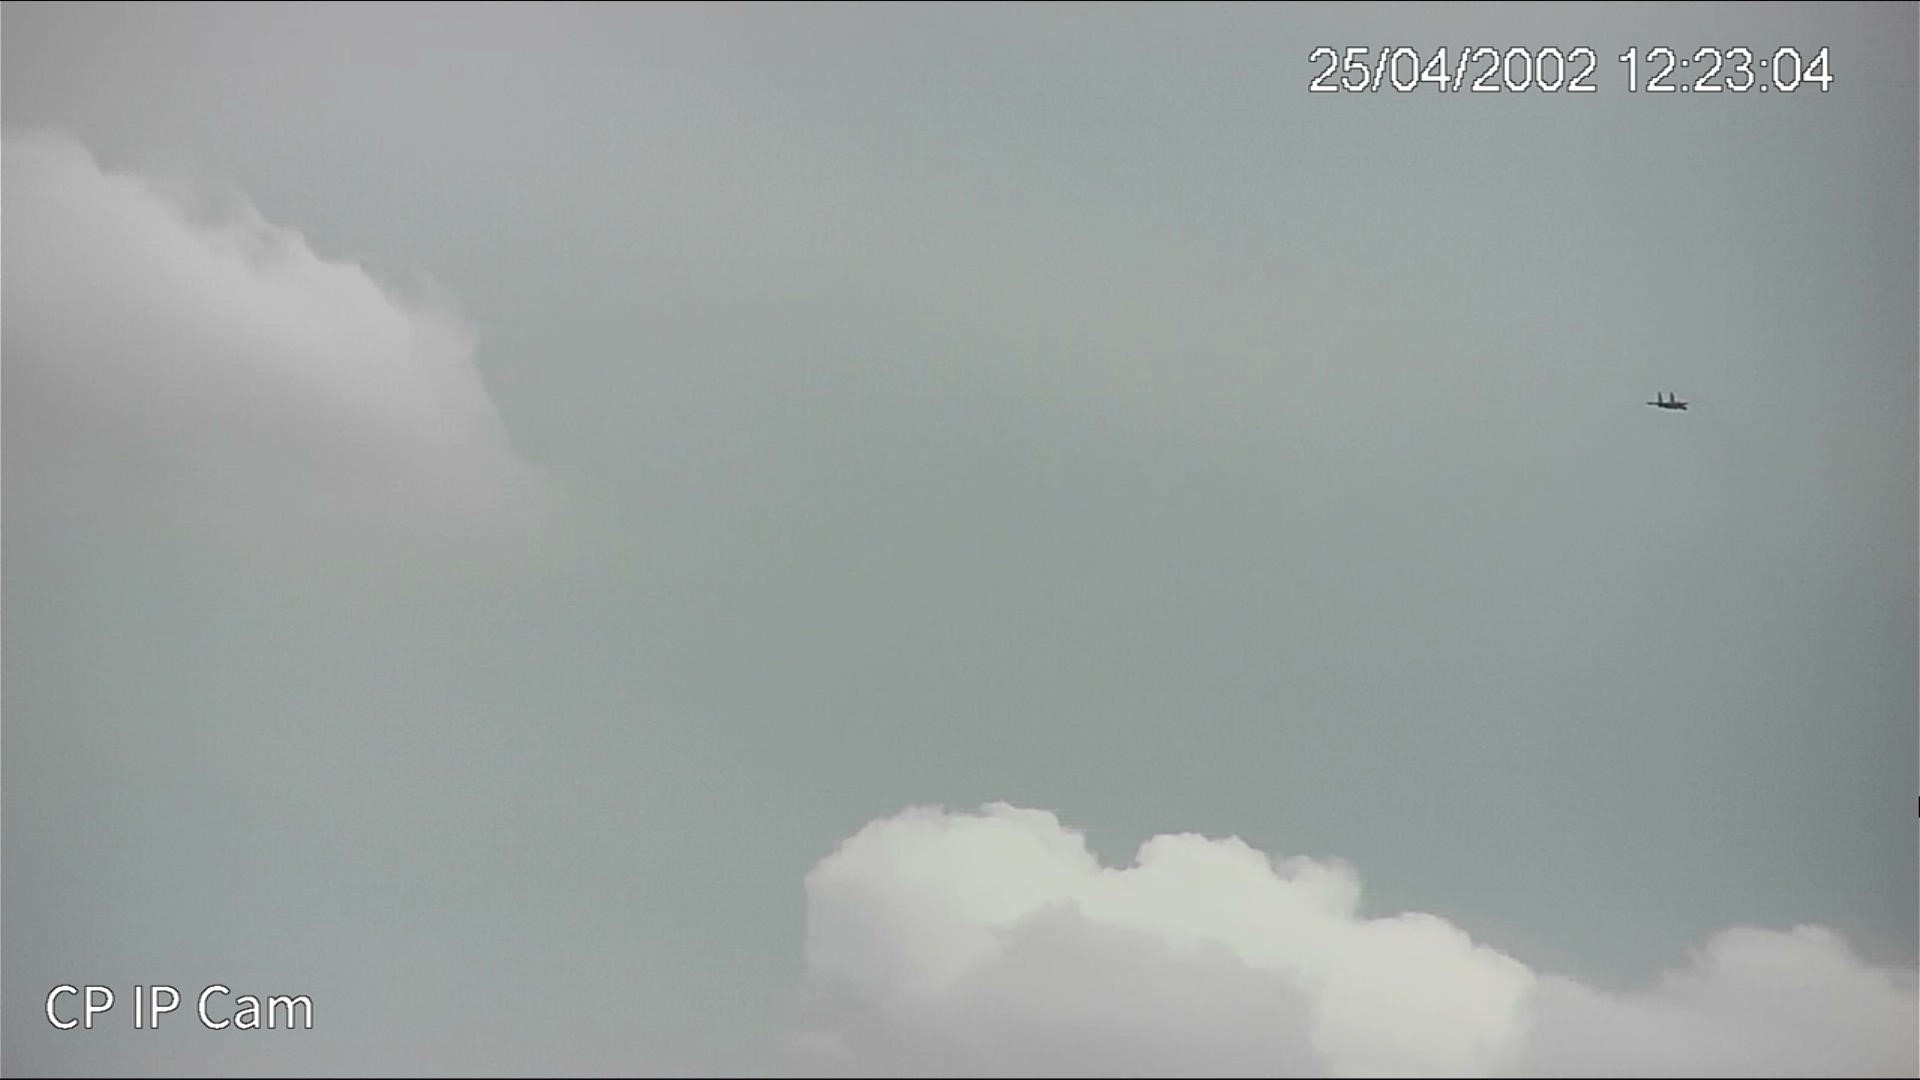SU_30: (1643, 389, 1695, 417)
